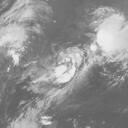cyclone: (52, 45, 82, 83)
